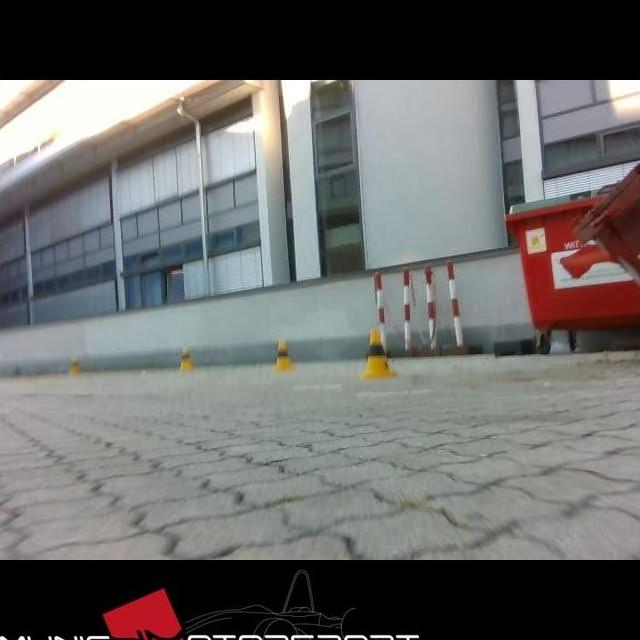Safety Cone: (360, 329, 397, 377), (272, 341, 293, 369), (178, 347, 192, 371), (69, 357, 79, 375)
